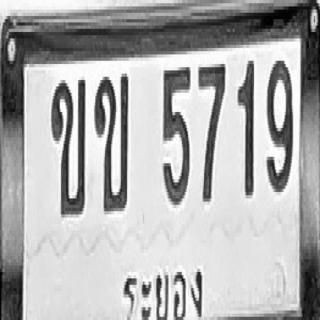A02: (51, 77, 85, 214), (94, 74, 128, 211)
N01: (237, 59, 254, 197)
N05: (163, 66, 189, 203)
N07: (198, 61, 225, 202)
N09: (266, 59, 293, 190)
P53: (120, 258, 206, 320)
